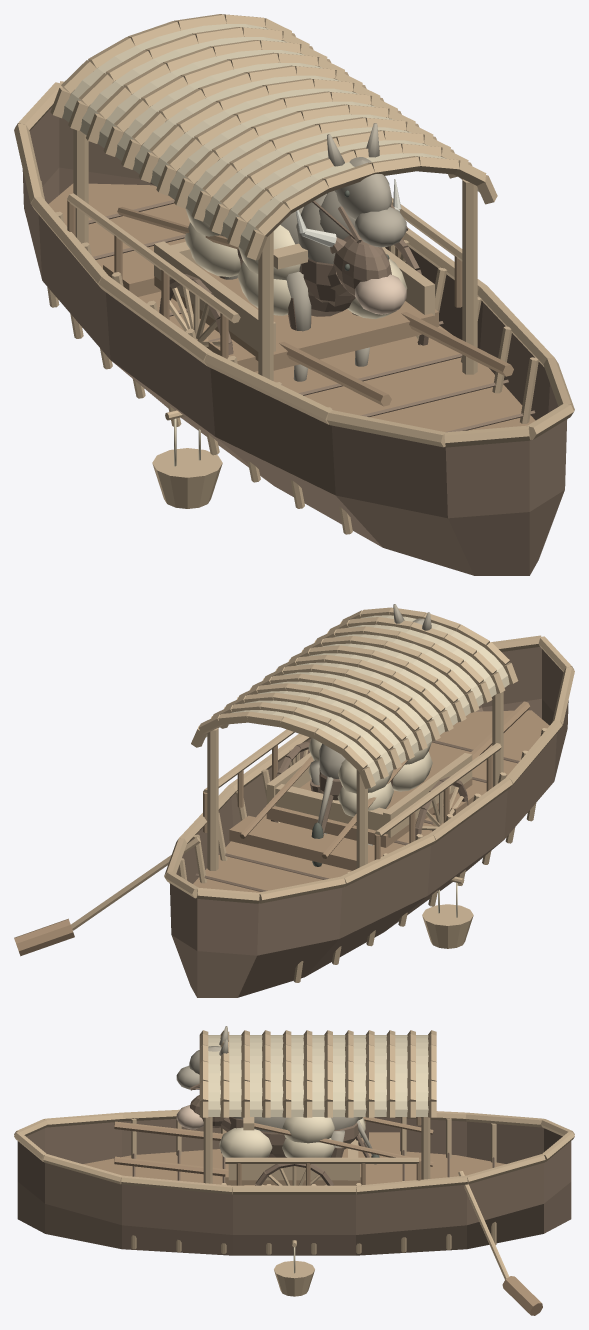
File: street-life.glb
3 views of the same model, one above another, from view 1: azimuth 30°, elevation 25°; view 2: azimuth 150°, elevation 25°; view 3: azimuth 270°, elevation 25° (orthographic). The views are drawn at different scales.
Visible parts, largest first — view 1: ferry_body_wood_light, ferry_body_wood_dark, ferry_body_wood, ferry_body_cloth_blue, cart_body_wood, horse_body_robe_brown, cart_body_cloth, cart_body_wood_light, ox_body_wood_dark, shoulder_load_body_wood_light, ox_body_skin, cart_wheel0_wood_light (+4 smaller); view 2: ferry_body_wood_light, ferry_body_wood_dark, ferry_body_wood, ferry_body_cloth_blue, cart_body_wood_light, cart_body_cloth, cart_body_wood, shoulder_load_body_wood_light, ferry_oar_wood, ox_body_wood, ferry_oar_wood_light, horse_body_robe_brown (+2 smaller); view 3: ferry_body_wood_dark, ferry_body_wood_light, ferry_body_cloth_blue, ferry_body_wood, cart_body_cloth, cart_body_wood, cart_body_wood_light, horse_body_robe_brown, shoulder_load_body_wood_light, ox_body_wood_dark, ox_body_wood, ferry_oar_wood (+3 smaller).
Boxes of the visible parts, x1,y1,x2,y2 form: ferry_body_wood_light: (14, 14, 574, 534); ferry_body_wood_dark: (22, 106, 567, 575); ferry_body_wood: (48, 183, 535, 431); ferry_body_cloth_blue: (62, 24, 479, 251); cart_body_wood: (154, 269, 513, 406); horse_body_robe_brown: (280, 123, 406, 270); cart_body_cloth: (184, 208, 407, 318); cart_body_wood_light: (154, 241, 434, 351); ox_body_wood_dark: (237, 235, 391, 316); shoulder_load_body_wood_light: (152, 410, 222, 508); ox_body_skin: (355, 274, 406, 314); cart_wheel0_wood_light: (169, 286, 220, 346); ferry_body_wood_light: (164, 607, 574, 982); ferry_body_wood_dark: (169, 647, 568, 997); ferry_body_wood: (193, 710, 549, 892); ferry_body_cloth_blue: (205, 615, 509, 782); cart_body_wood_light: (266, 753, 472, 837); cart_body_cloth: (308, 738, 432, 816); cart_body_wood: (266, 701, 530, 847); shoulder_load_body_wood_light: (422, 876, 473, 948); ferry_oar_wood: (14, 918, 74, 956); ox_body_wood: (240, 756, 407, 858); ferry_oar_wood_light: (71, 837, 200, 930); horse_body_robe_brown: (319, 604, 431, 778); ferry_body_wood_dark: (17, 1117, 571, 1255); ferry_body_wood_light: (14, 1030, 574, 1254); ferry_body_cloth_blue: (208, 1035, 428, 1116); ferry_body_wood: (83, 1117, 505, 1185); cart_body_cloth: (219, 1117, 365, 1157); cart_body_wood: (114, 1121, 363, 1185); cart_body_wood_light: (228, 1139, 360, 1180); horse_body_robe_brown: (176, 1026, 359, 1132); shoulder_load_body_wood_light: (274, 1240, 314, 1296); ox_body_wood_dark: (190, 1095, 359, 1157); ox_body_wood: (254, 1117, 433, 1166); ferry_oar_wood: (502, 1276, 542, 1315).
Bounding box in the file's own units: 4.18 × 3.62 × 8.11.
